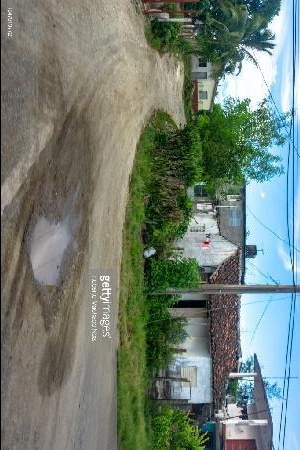pothole: (26, 210, 75, 287)
